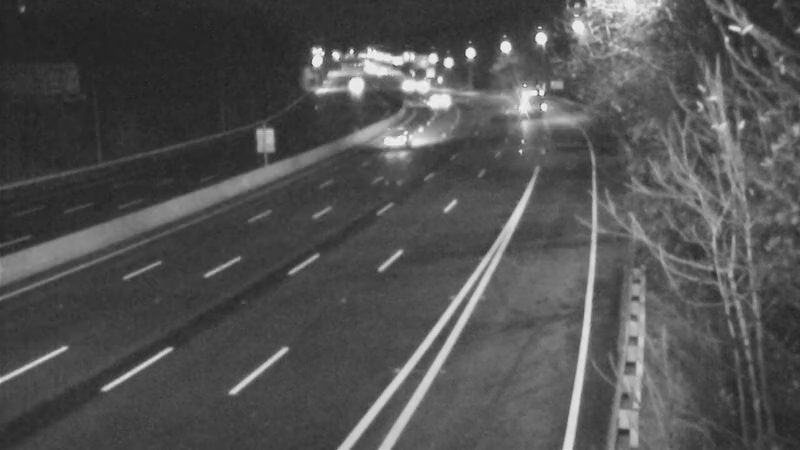vehicle: (378, 58, 428, 108), (394, 62, 444, 112), (515, 77, 565, 127), (412, 71, 462, 121), (374, 115, 424, 165)
